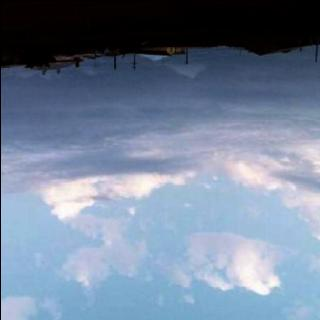Stratocumulus: (0, 67, 320, 320)
